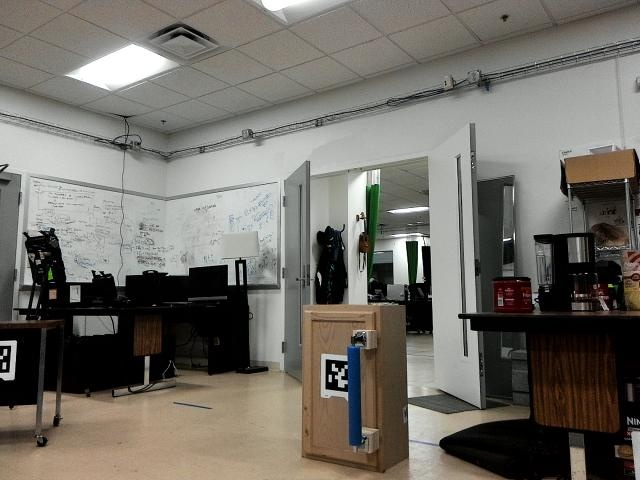noodle_handle: (342, 341, 367, 453)
